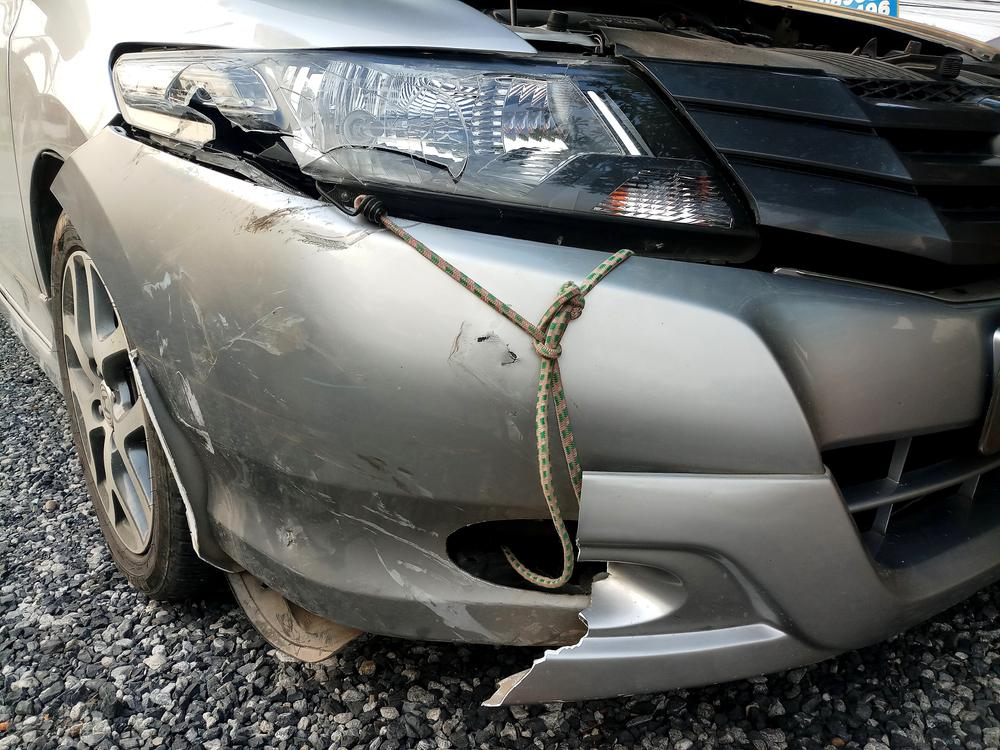lamp broken: (112, 48, 731, 231)
scratch: (137, 264, 506, 640)
